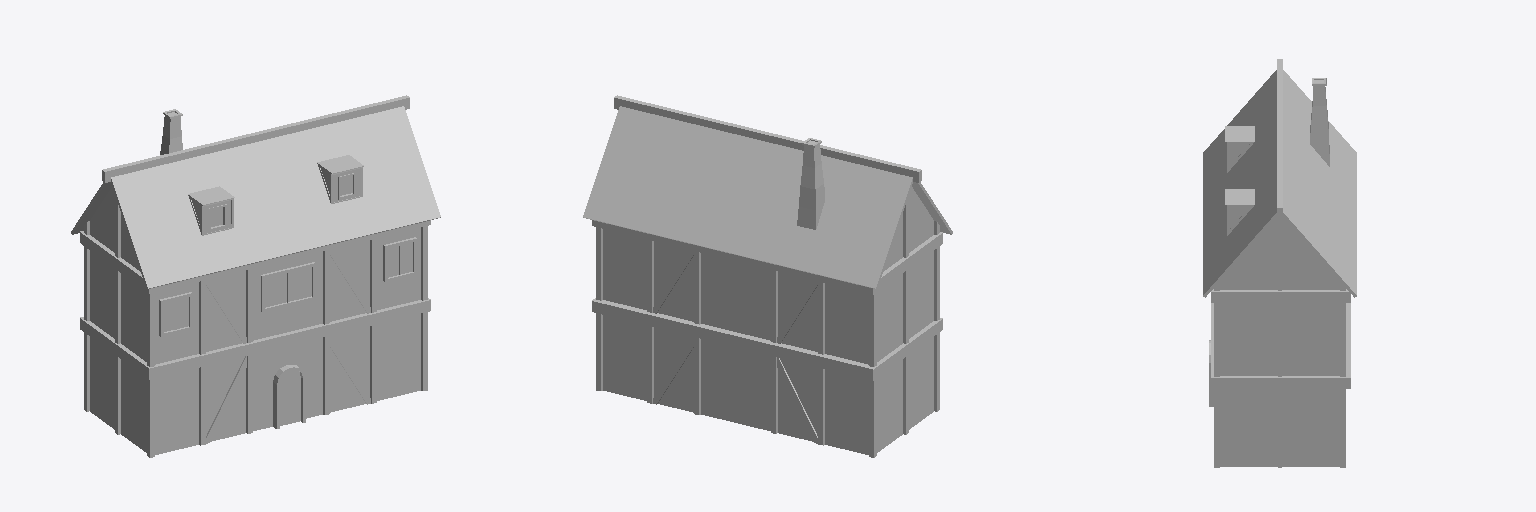
File: Casa 2.obj
3 views of the same model, side by side, from view 1: azimuth 30°, elevation 25°; view 2: azimuth 150°, elevation 25°; view 3: azimuth 270°, elevation 25° (orthographic).
Visible parts, largest first — view 1: House3; view 2: House3; view 3: House3.
Part boxes in pixels (x1,y1,x2,y2): House3: (71,95,440,457); House3: (583,95,952,457); House3: (1203,59,1356,467).
Bounding box in the file's own units: 1118 × 1009 × 490.